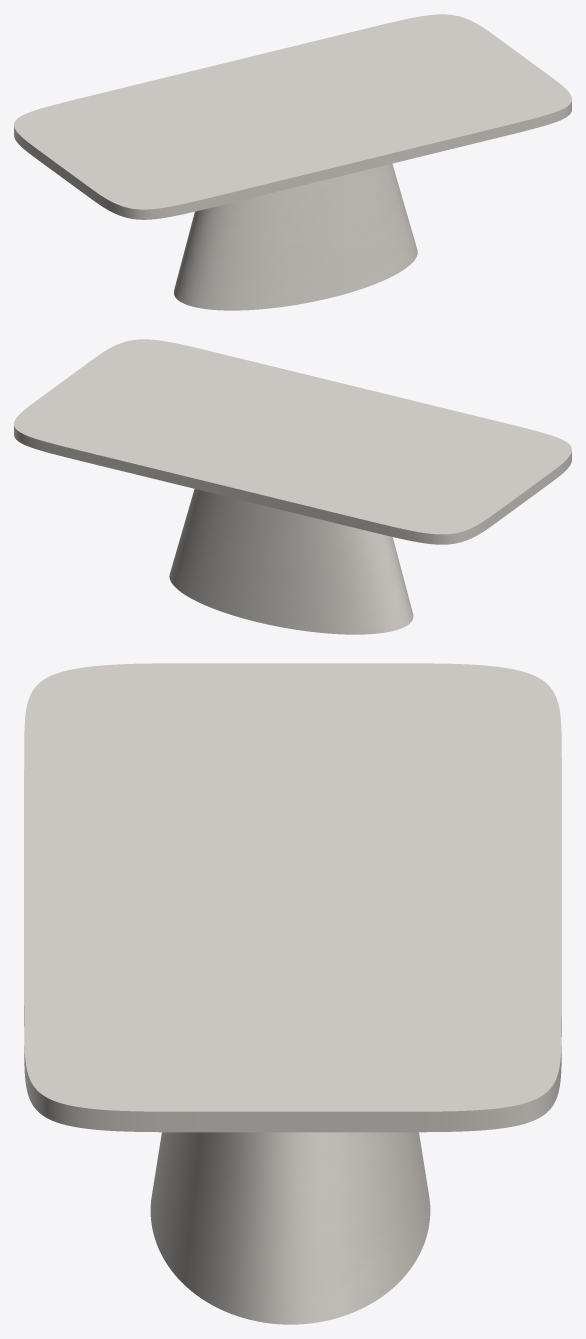
The model's file is pearlwhite_softrecta_standard_eqone.glb.
3 views of the same model, one above another, from view 1: azimuth 30°, elevation 25°; view 2: azimuth 150°, elevation 25°; view 3: azimuth 270°, elevation 25° (orthographic). The views are drawn at different scales.
Visible parts, largest first — view 1: standard_softrecta, eqone; view 2: standard_softrecta, eqone; view 3: standard_softrecta, eqone.
Part boxes in pixels (x1,y1,x2,y2): standard_softrecta: [14, 14, 571, 219]; eqone: [174, 163, 417, 310]; standard_softrecta: [14, 339, 571, 544]; eqone: [169, 489, 413, 634]; standard_softrecta: [24, 663, 561, 1132]; eqone: [150, 1132, 430, 1324].
Size of the model in its own units: 7.5 by 2.5 by 3.8.
Materials: 1 (1 with a texture image).
